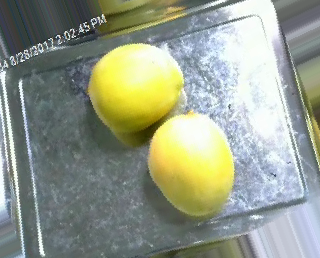Mango: (148, 113, 234, 214), (90, 43, 182, 131)
